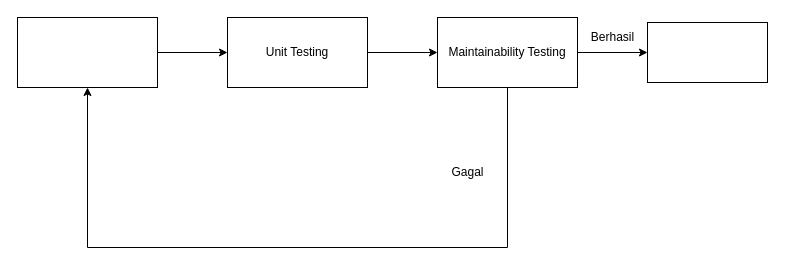
The diagram is 785 pixels wide and 273 high, and some of its shapes have lost their labels. Each missing label, with the centre of its shape:
"Buat / Revisi Function" belongs at (87,52).
"Deployment" belongs at (707,52).
